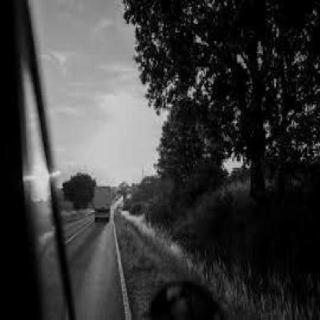other: (22, 140, 54, 211)
